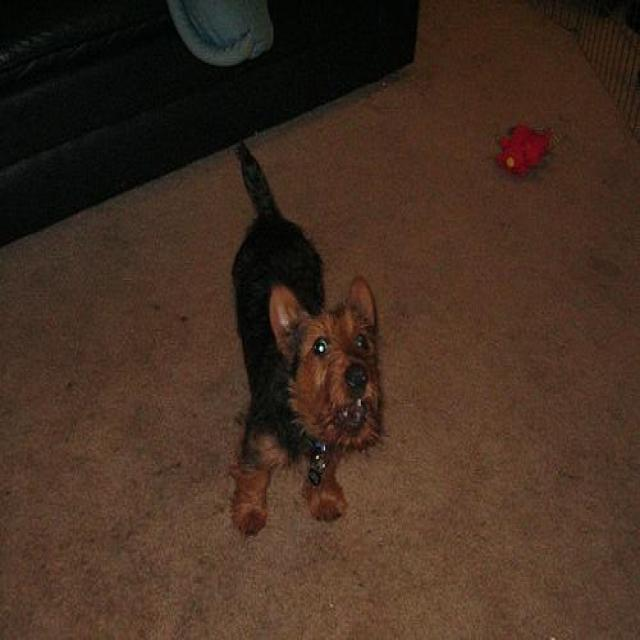Dog: (188, 165, 402, 546)
